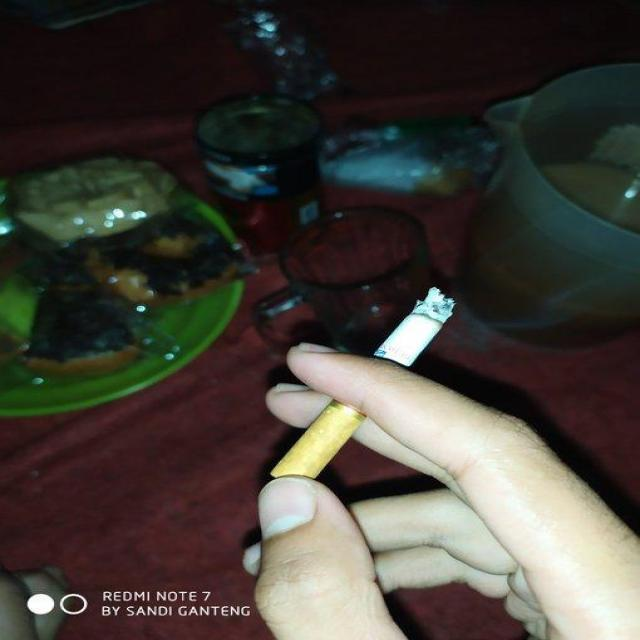Cigarette: (259, 286, 467, 514)
